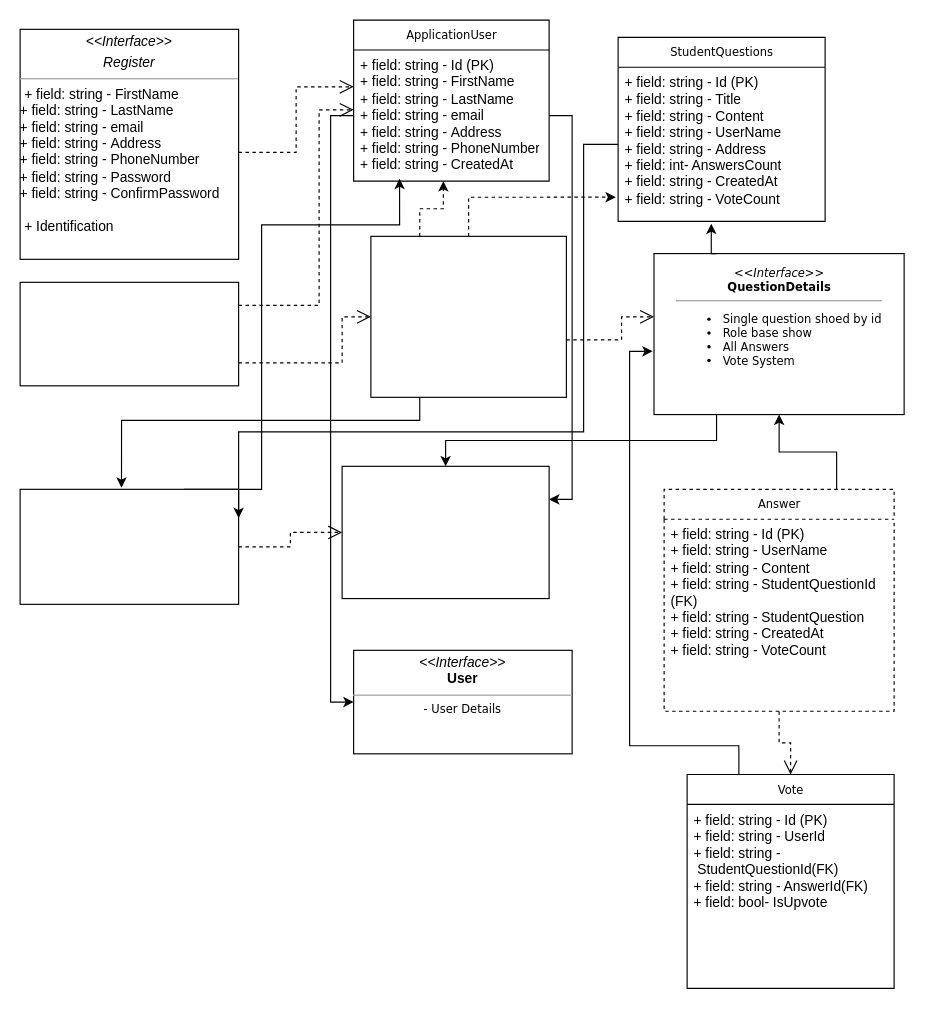
The diagram is 925 pixels wide and 1009 high, and some of its shapes have lost their labels. The centre of each missing label's shape, as x and y in pixels:
"<<Interface>> CreateAnswer - Only Teacher can create answer - Role base show" goes at point (445, 532).
"<<Interface>> CreateQuestion - Only Student can create quesiton - Role base show" goes at point (129, 546).
"<<Interface>> Home All Questions Role base show Pagination" goes at point (468, 316).
"<<Interface>> Login + field: string - email + field: string - Password" goes at point (129, 333).
